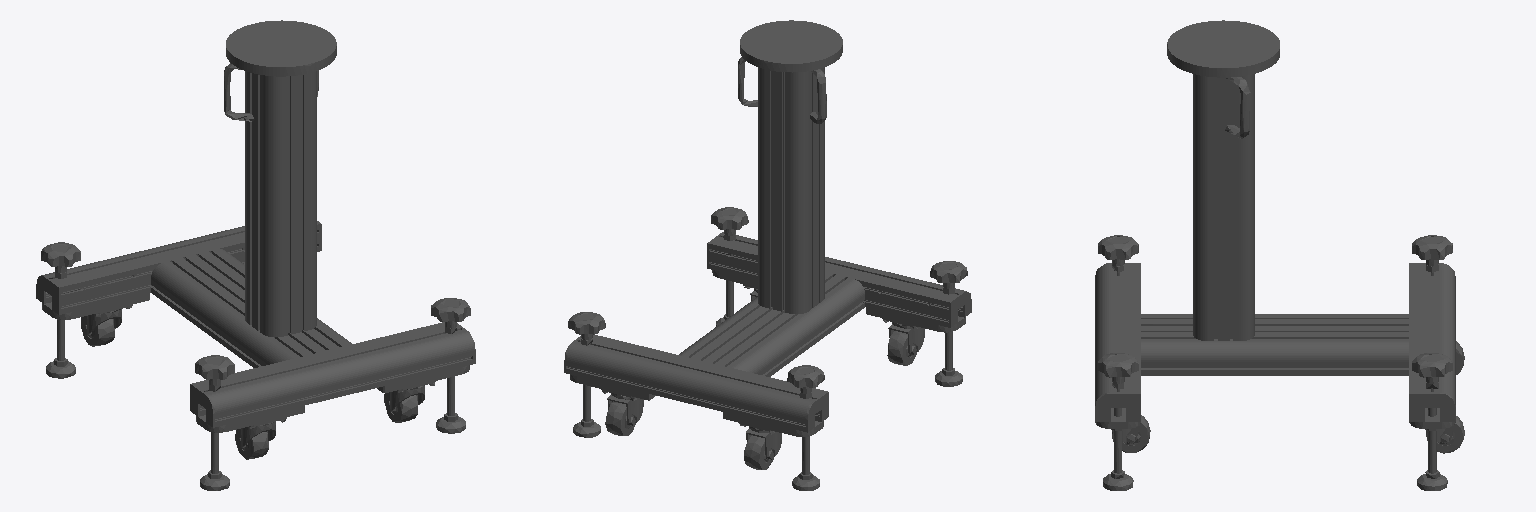
The robot description file, URDF, robot "ur5e_basemount":
<?xml version="1.0"?>
<robot name="ur5e_basemount">
  <link name="ur5e_basemount_base_link">
    <contact>
      <lateral_friction value="1.0"/>
      <spinning_friction value="1.0"/>
      <rolling_friction value="1.0"/>
    </contact>
    <inertial>
      <origin rpy="0 0 0" xyz="0 0 0"/>
      <mass value="0"/>
      <inertia ixx="1" ixy="0" ixz="0" iyy="1" iyz="0" izz="1"/>
    </inertial>
    <visual>
      <origin rpy="0 0 0" xyz="0.0 0.0 0.0"/>
      <geometry>
        <mesh filename="ur5e/basemount/visual/ur5e_basemount.stl" scale="0.001 0.001 0.001"/>
      </geometry>
      <material name="Grey">
        <color rgba="0.4 0.4 0.4 1.0"/>
      </material>
    </visual>
    <collision>
      <origin rpy="0 0 0" xyz="0.0 0.0 0.0"/>
      <geometry>
        <mesh filename="ur5e/basemount/collision/ur5e_basemount.stl" scale="0.001 0.001 0.001"/>
      </geometry>
    </collision>
  </link>
</robot>

--- What the picture shows (computed from the rendered views, not written in the file) ---
Views: 3 orthographic renders of the robot side by side, from view 1: azimuth 30°, elevation 25°; view 2: azimuth 150°, elevation 25°; view 3: azimuth 270°, elevation 25°.
Robot: ur5e_basemount — 1 links, 0 joints (none); root link ur5e_basemount_base_link; default pose: all joints at 0.
Links seen in each view (by area): view 1: ur5e_basemount_base_link; view 2: ur5e_basemount_base_link; view 3: ur5e_basemount_base_link.
Boxes of the visible links, <box> form: ur5e_basemount_base_link: <box>36,20,475,490</box>; ur5e_basemount_base_link: <box>564,20,971,490</box>; ur5e_basemount_base_link: <box>1095,20,1464,490</box>.
Bounding box of the posed robot: 0.614 × 0.7181 × 0.818 m (x, y, z).
1 mesh visuals loaded from 1 distinct referenced files (1 binary STL).